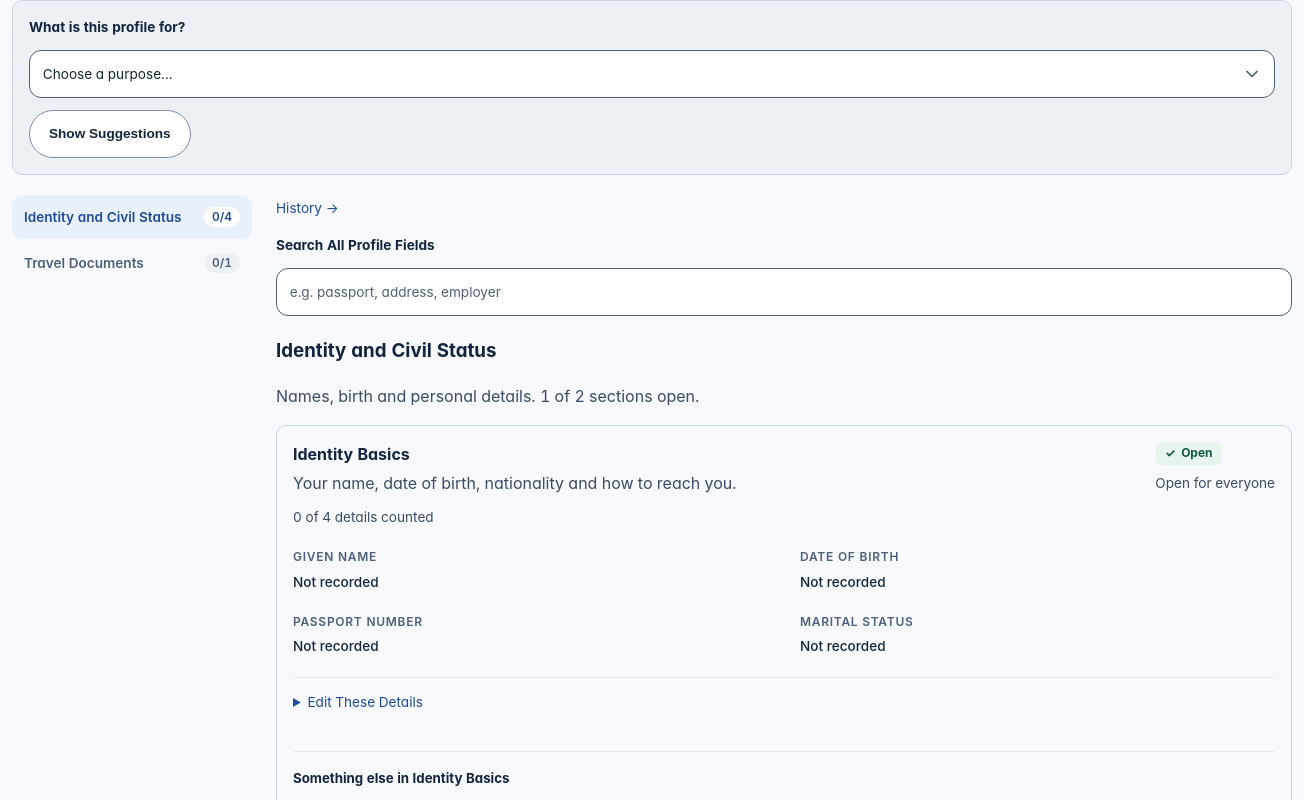
Test case: section cards keep every real editing path › retains applicant, canonical field and repeating-record identity in versioned edit forms
Click the tab "Travel Documents 0/1": (132, 263) [12,241,252,285]
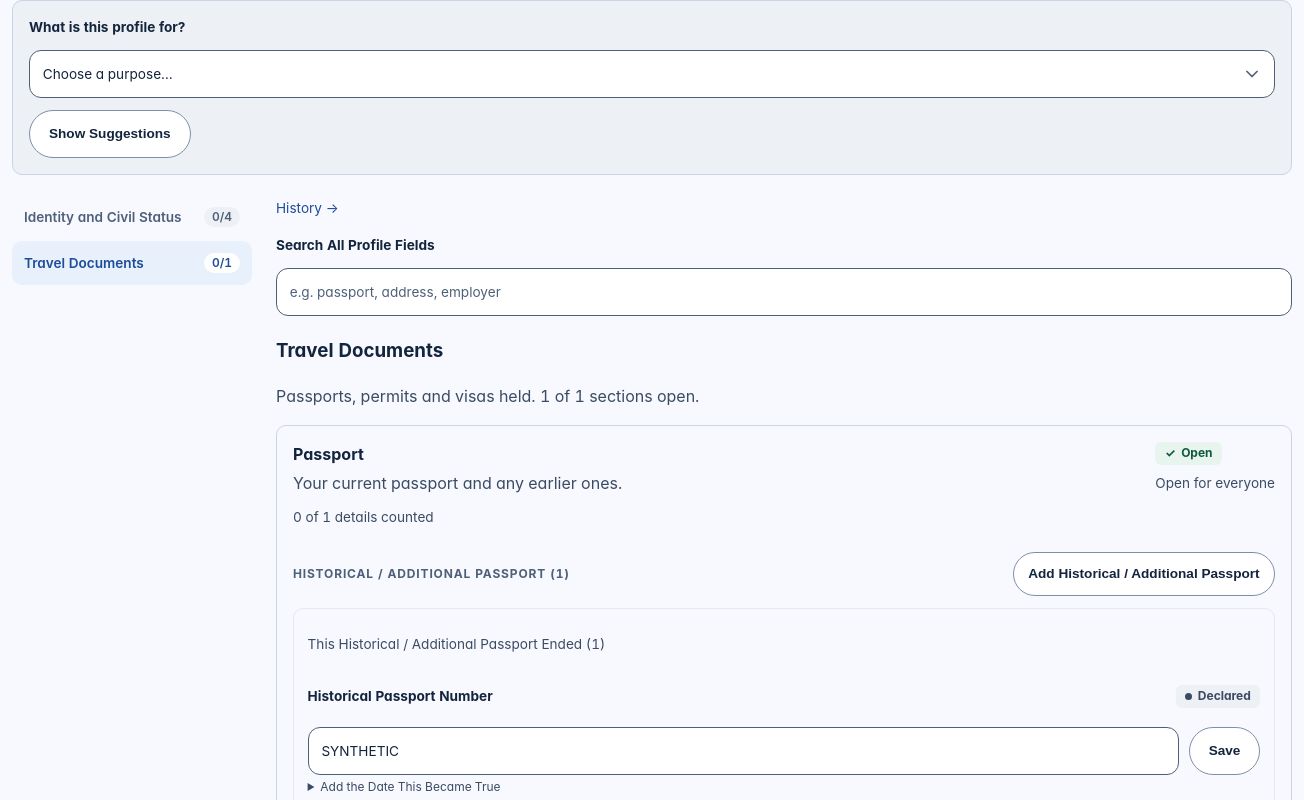
Now the field with id "f-historical_passport_number-existing-record" holds "SYNTHETIC", box [308,727,1179,775]
Now the element named "effectiveFrom" is shown, box [320,779,500,794]
